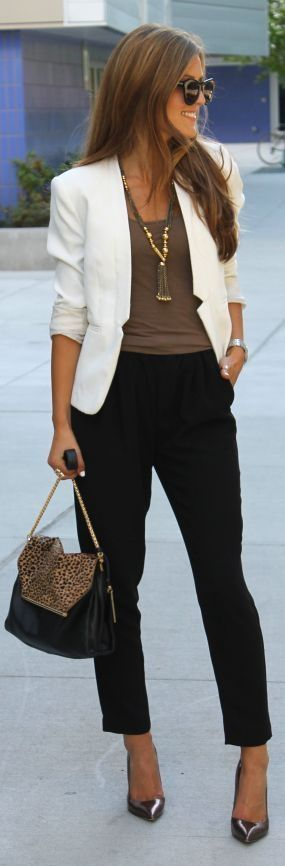F_W_suit jacket: (27, 131, 242, 412)
